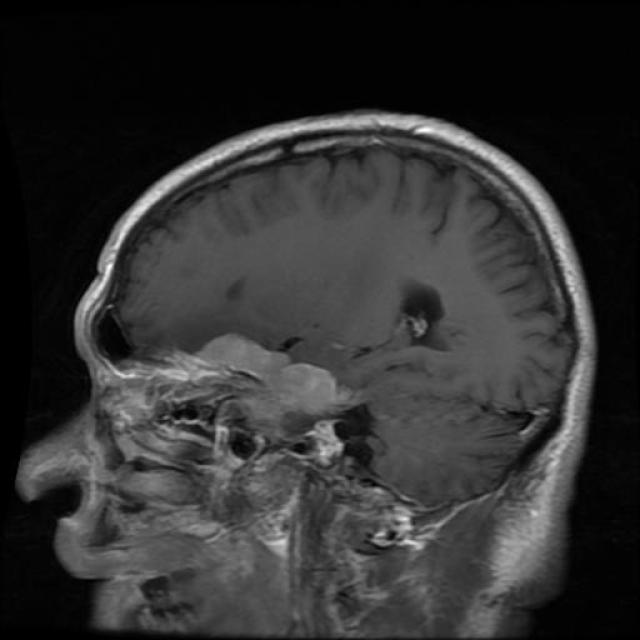meningioma: (192, 335, 335, 408)
